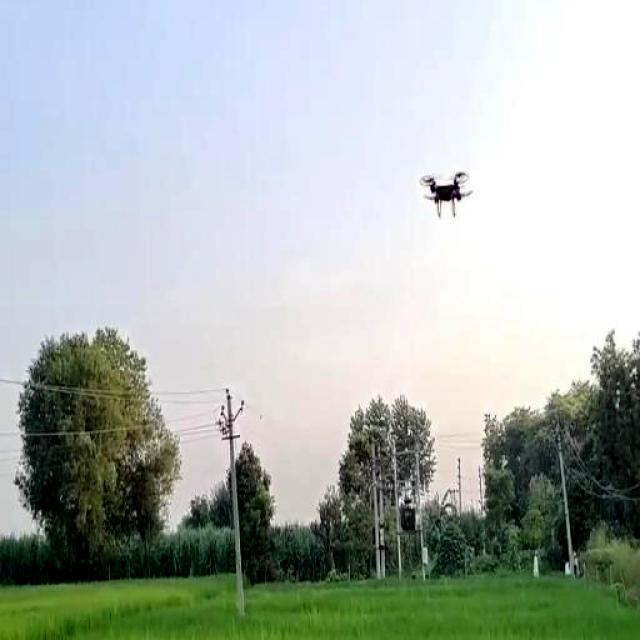bird: (415, 164, 481, 222)
